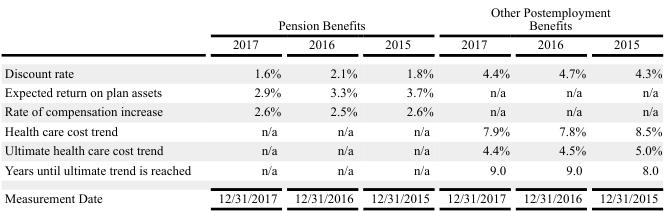table: (3, 4, 661, 204)
table column: (3, 4, 203, 204), (203, 4, 287, 204), (287, 4, 363, 204), (363, 4, 439, 204), (439, 4, 515, 204), (515, 4, 591, 204), (591, 4, 661, 204)
table column header: (3, 4, 661, 58)
table row: (3, 4, 661, 34), (3, 34, 661, 58), (3, 58, 661, 82), (3, 159, 661, 183), (3, 183, 661, 204), (3, 120, 661, 140), (3, 82, 661, 101), (3, 101, 661, 120), (3, 140, 661, 159)
table spanning cell: (203, 4, 439, 34), (439, 4, 661, 34)
